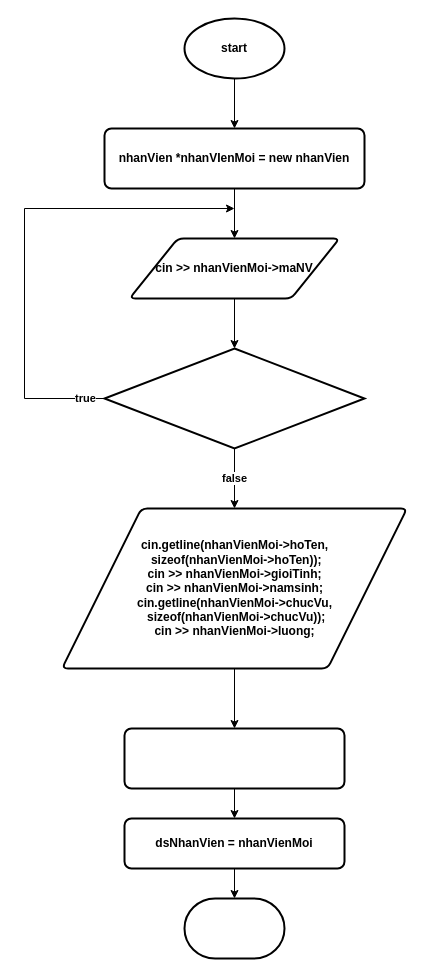
This 425x976 diagram has some shape labels left out. The shapes that lost their labels are listed below. From the top down, each one's centre as x and y in pixels, then its label:
At pixel 234 398: "(kiemTraMaNhanVien(dsNhanVien, nhanVienMoi->maNV))".
At pixel 234 758: "nhanVienMoi->next = dsNhanVien".
At pixel 234 928: "end".
